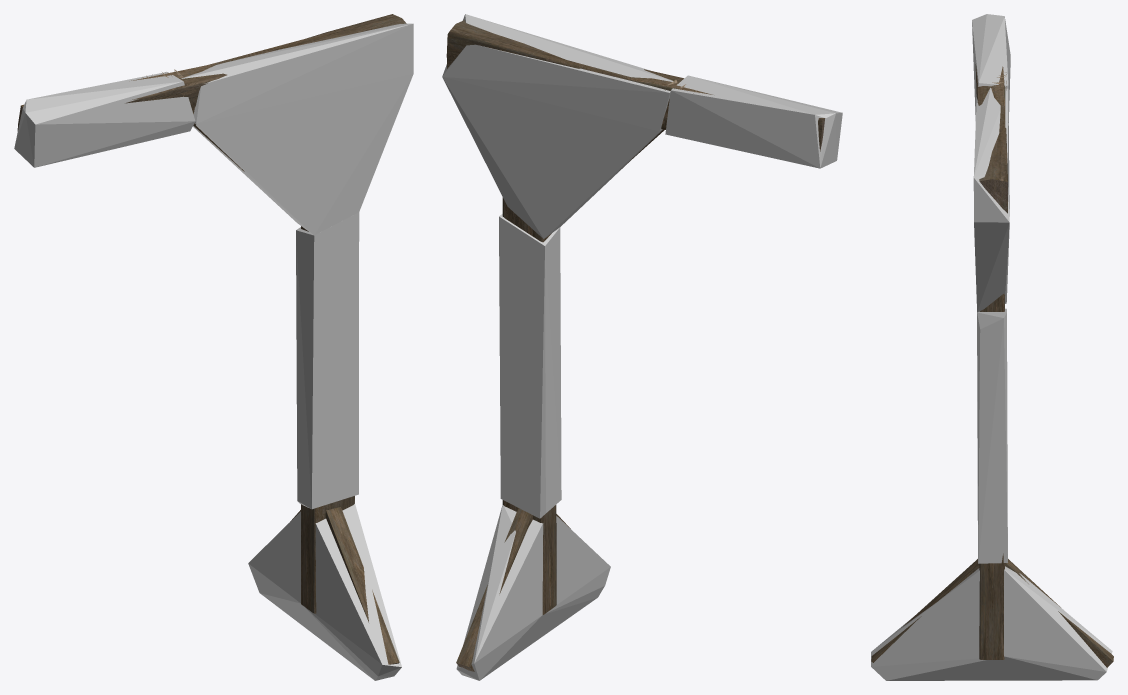
File: SM_Cage03.fbx
The picture shows the model from 3 angles, left to right: view 1: azimuth 30°, elevation 25°; view 2: azimuth 150°, elevation 25°; view 3: azimuth 270°, elevation 25°; orthographic projection. The views are drawn at different scales.
Parts seen in each view (by area): view 1: SM_Cage03_ConvexHulls, SM_Cage03; view 2: SM_Cage03_ConvexHulls, SM_Cage03; view 3: SM_Cage03_ConvexHulls, SM_Cage03.
Boxes of the visible parts, x1,y1,x2,y2 form: SM_Cage03_ConvexHulls: (14,23,413,680); SM_Cage03: (17,14,406,664); SM_Cage03_ConvexHulls: (442,14,842,680); SM_Cage03: (446,20,825,671); SM_Cage03_ConvexHulls: (871,14,1112,680); SM_Cage03: (871,64,1113,667).
Bounding box in the file's own units: 251 × 155 × 377.
